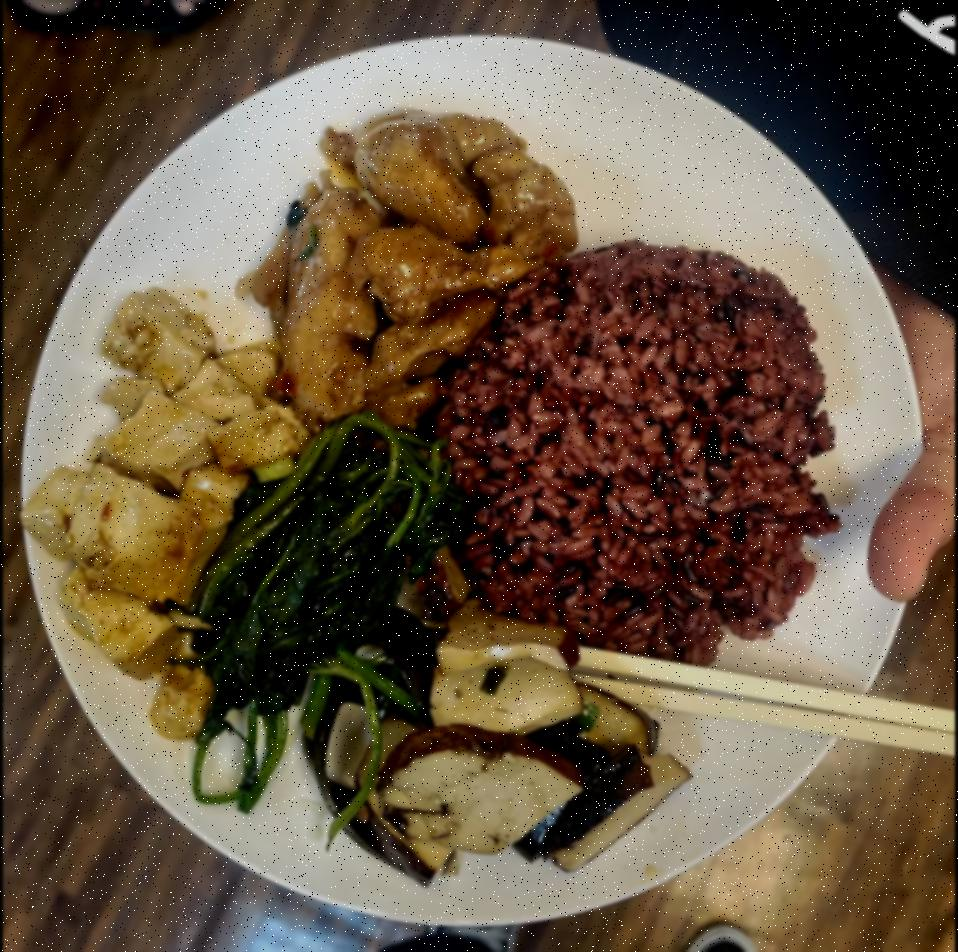plate: (34, 26, 928, 927)
purple rice: (451, 238, 828, 654)
side dish: (24, 278, 284, 720), (196, 417, 454, 805), (320, 606, 672, 878)
three cup chicken: (259, 106, 569, 409)
